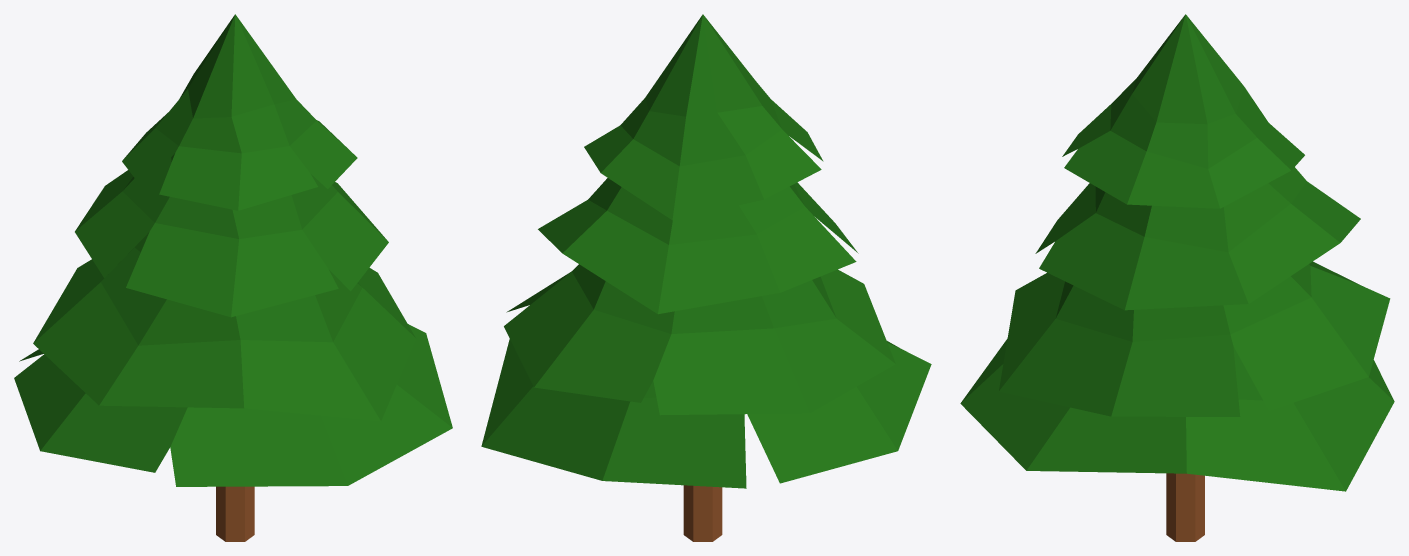
The model's file is Fir2.fbx.
3 renders of one model, left to right at view 1: azimuth 30°, elevation 25°; view 2: azimuth 150°, elevation 25°; view 3: azimuth 270°, elevation 25°, orthographic.
Parts seen in each view (by area): view 1: Fir2; view 2: Fir2; view 3: Fir2.
Part boxes in pixels (x1,y1,x2,y2): Fir2: [14, 14, 452, 541]; Fir2: [481, 14, 931, 541]; Fir2: [960, 14, 1394, 541].
Size of the model in its own units: 2828 by 3641 by 2751.
